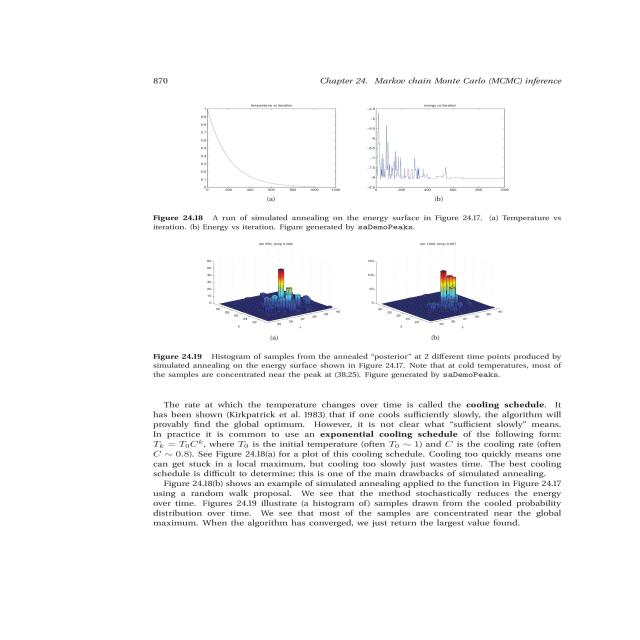diagram: (118, 96, 640, 393)
